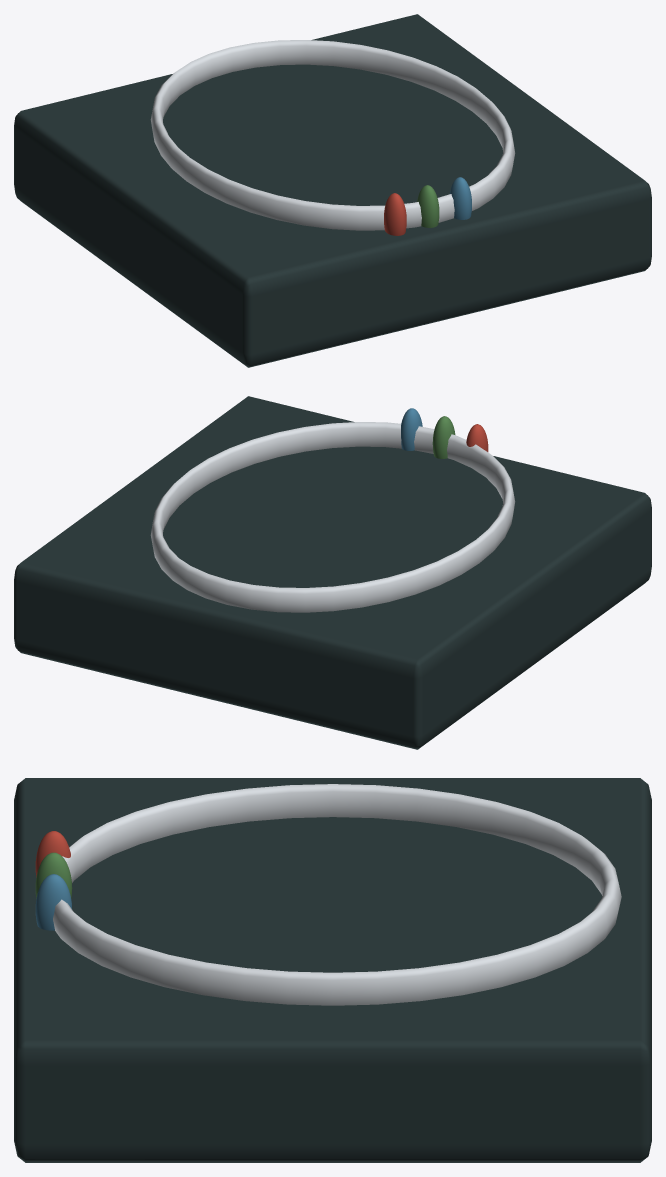
The model's file is wp-crepiere.glb.
3 views of the same model, one above another, from view 1: azimuth 30°, elevation 25°; view 2: azimuth 150°, elevation 25°; view 3: azimuth 270°, elevation 25° (orthographic). The views are drawn at different scales.
Parts seen in each view (by area): view 1: wp-crepiere; view 2: wp-crepiere; view 3: wp-crepiere.
Part boxes in pixels (x1=…): wp-crepiere: x1=14, y1=14, x2=651, y2=367; wp-crepiere: x1=14, y1=396, x2=651, y2=749; wp-crepiere: x1=14, y1=778, x2=651, y2=1162.
Bounding box in the file's own units: 0.4 × 0.12 × 0.4.
